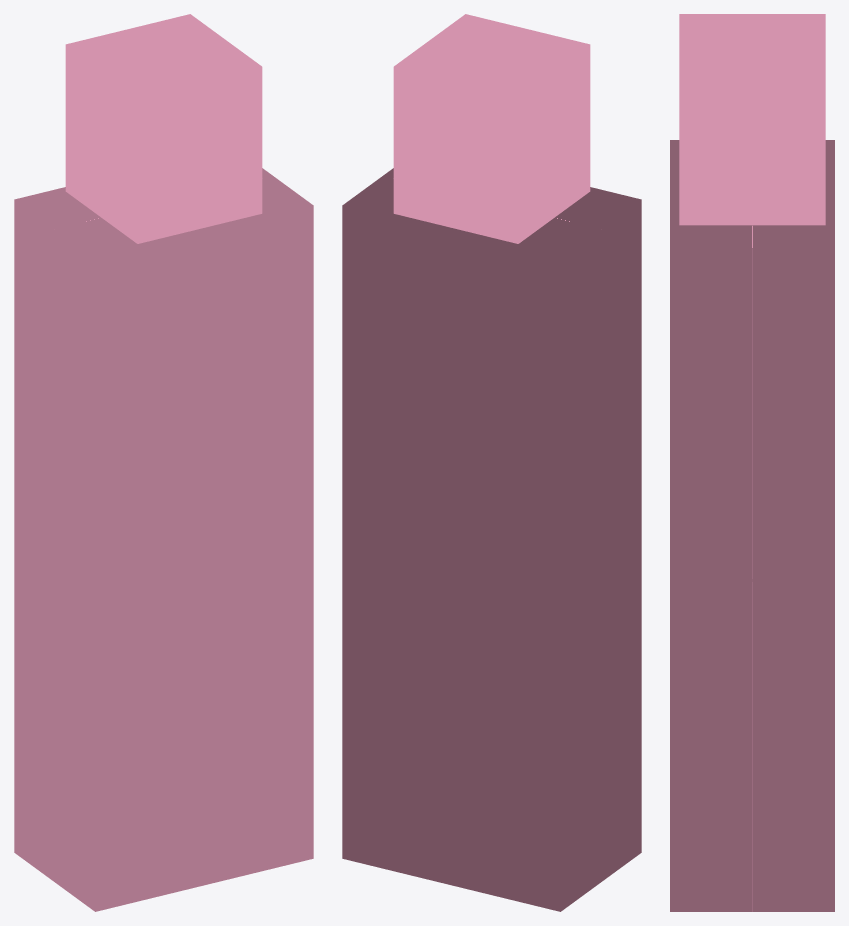
3 renders of one model, left to right at view 1: azimuth 30°, elevation 25°; view 2: azimuth 150°, elevation 25°; view 3: azimuth 270°, elevation 25°, orthographic.
Visible parts, largest first — view 1: Root; view 2: Root; view 3: Root.
Part boxes in pixels (x1=…): Root: x1=14, y1=14, x2=313, y2=911; Root: x1=342, y1=14, x2=641, y2=911; Root: x1=670, y1=14, x2=834, y2=911.
Size of the model in its own units: 0.56 by 1.96 by 0.36.
